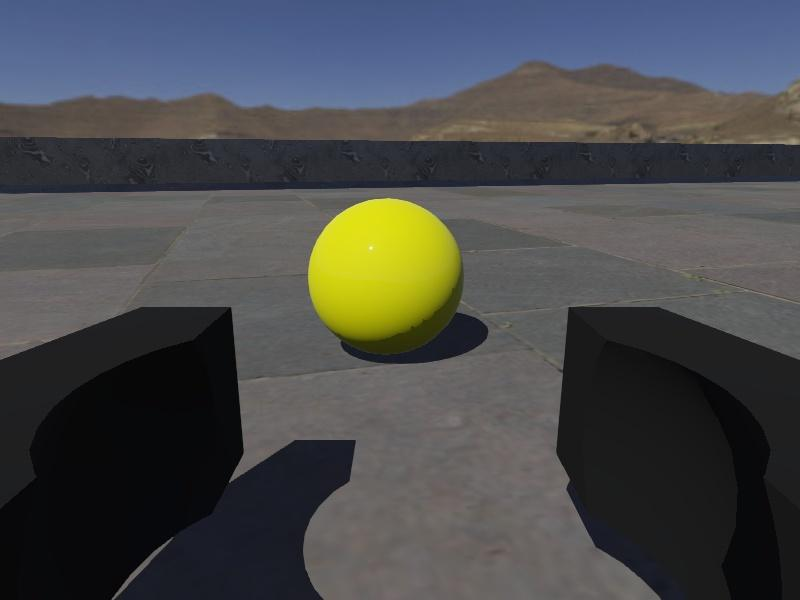yellow ball: (308, 198, 465, 357)
